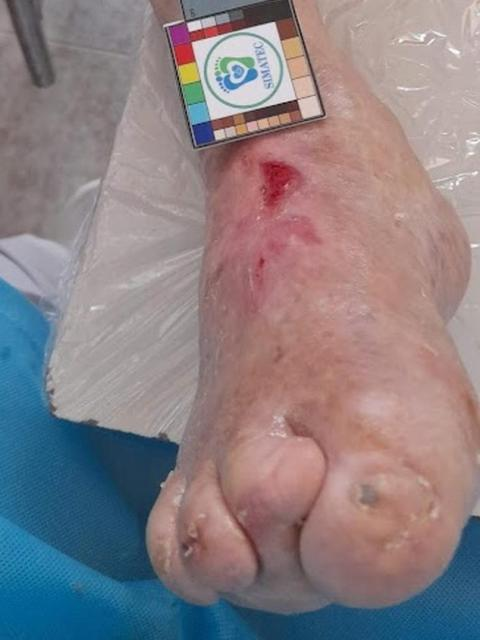wound: (256, 157, 305, 220), (248, 250, 270, 290)
